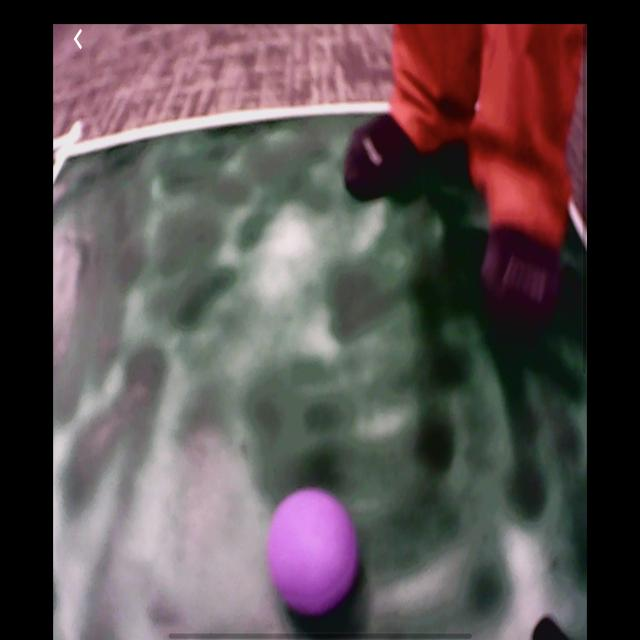ball: (270, 490, 360, 620)
